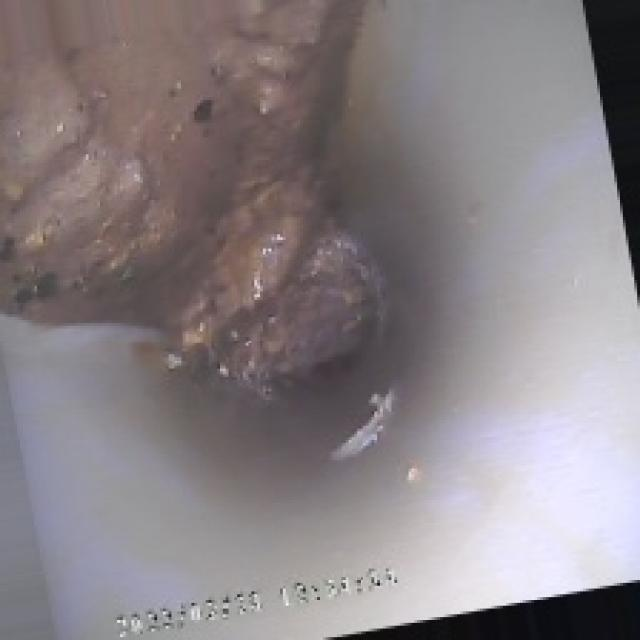sluge accumulation: (9, 14, 380, 377)
